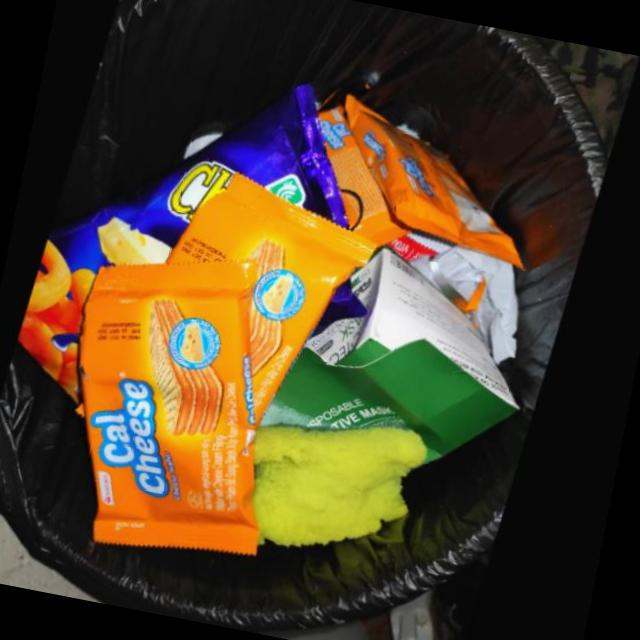bao_bi_thuc_pham: (24, 82, 354, 408), (84, 260, 269, 556), (171, 173, 382, 431), (345, 94, 529, 270), (320, 106, 418, 248)
carton: (268, 247, 527, 465)
